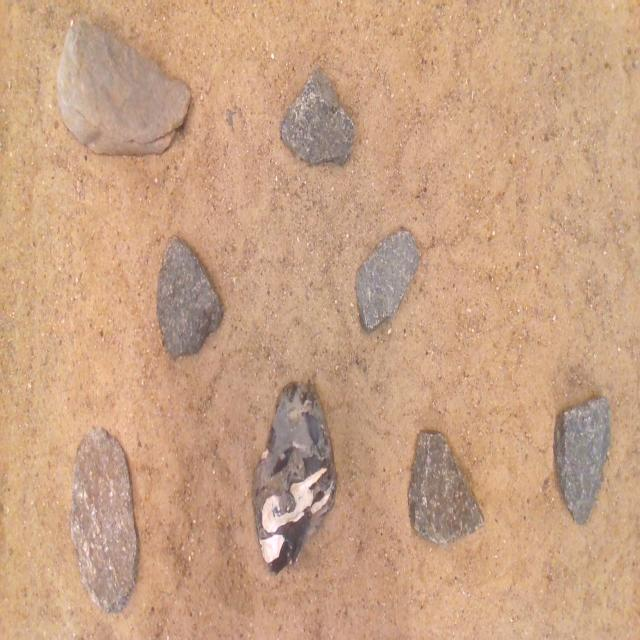rock: (57, 21, 190, 155), (253, 382, 336, 572), (71, 428, 139, 612), (408, 431, 484, 543), (157, 236, 223, 357), (553, 396, 610, 523), (281, 68, 355, 165), (356, 231, 419, 329)
